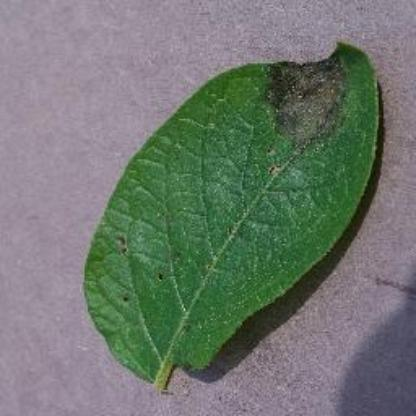Late-Blight: (84, 44, 386, 392)
